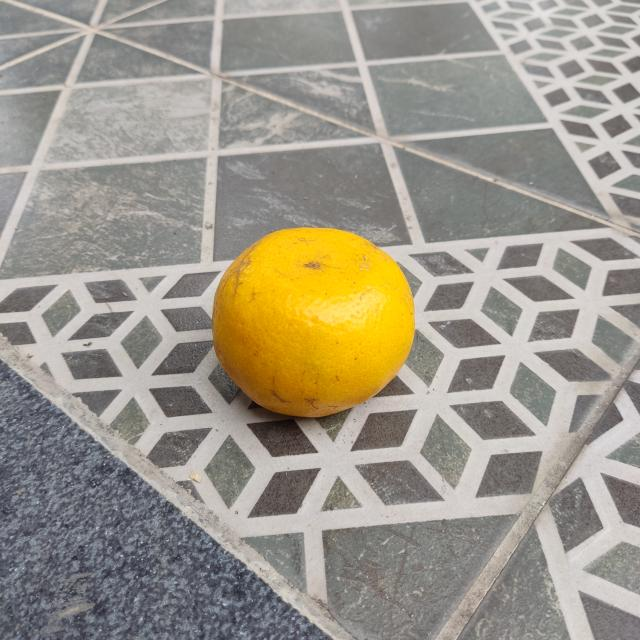orange: (210, 223, 416, 424)
